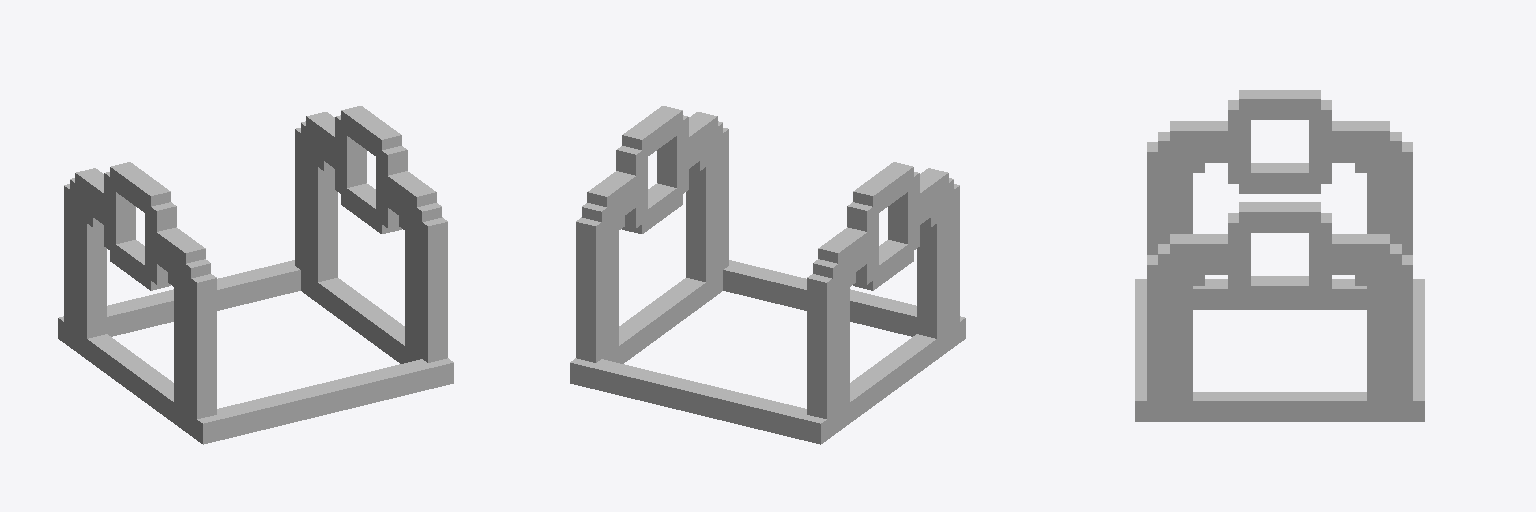
File: turbineBase.obj
3 renders of one model, left to right at view 1: azimuth 30°, elevation 25°; view 2: azimuth 150°, elevation 25°; view 3: azimuth 270°, elevation 25°, orthographic.
Size of the model in its own units: 1 by 0.8 by 1.